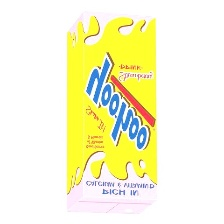carton: (57, 8, 162, 217)
